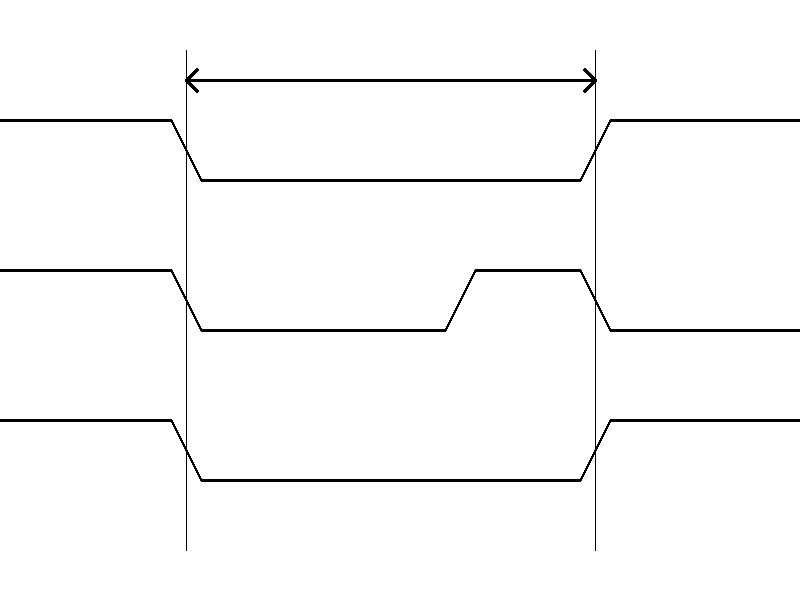double_arrow: (186, 65, 595, 95)
